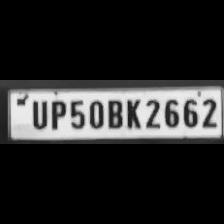0: (86, 97, 104, 129)
2: (198, 96, 218, 128), (142, 97, 160, 129)
5: (66, 96, 86, 130)
6: (162, 96, 180, 128), (181, 96, 199, 128)
B: (105, 98, 123, 130)
K: (122, 96, 142, 130)
P: (48, 98, 66, 130)
U: (28, 98, 48, 130)
